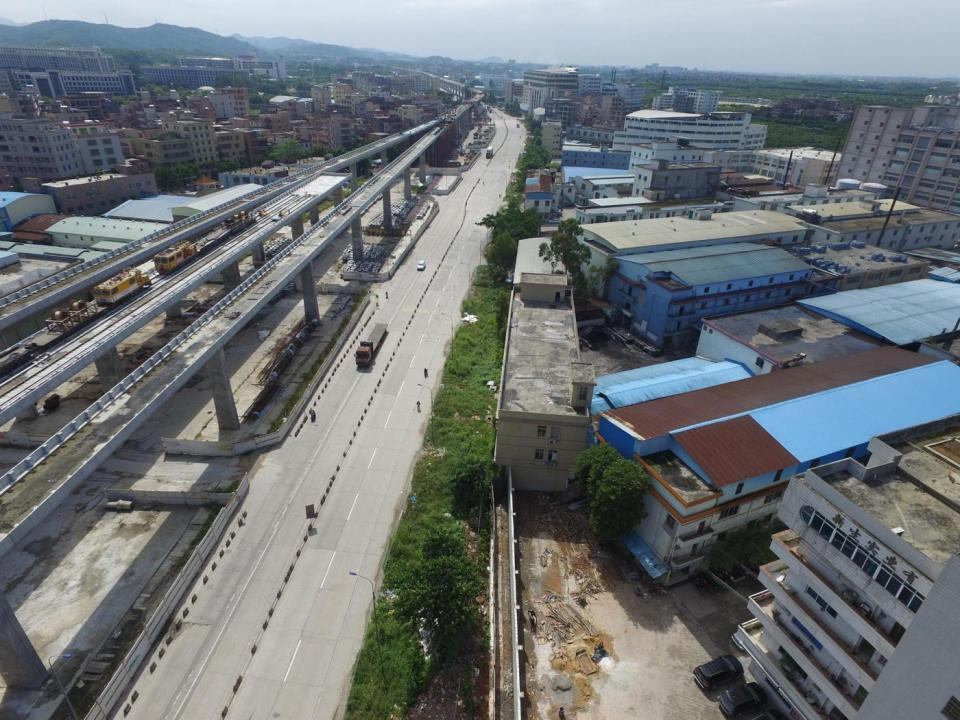car: (716, 681, 767, 719), (694, 654, 743, 691), (417, 261, 425, 270), (550, 218, 562, 224), (186, 182, 199, 187), (180, 189, 190, 194)
truck: (356, 324, 388, 366), (486, 147, 493, 158)
van: (552, 210, 562, 216), (553, 204, 562, 208), (554, 209, 562, 212)
